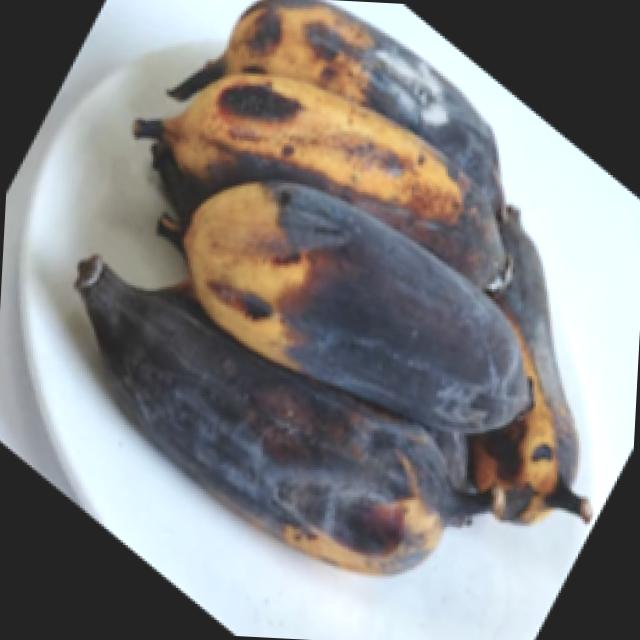Rotten_Banana: (2, 38, 627, 640)
